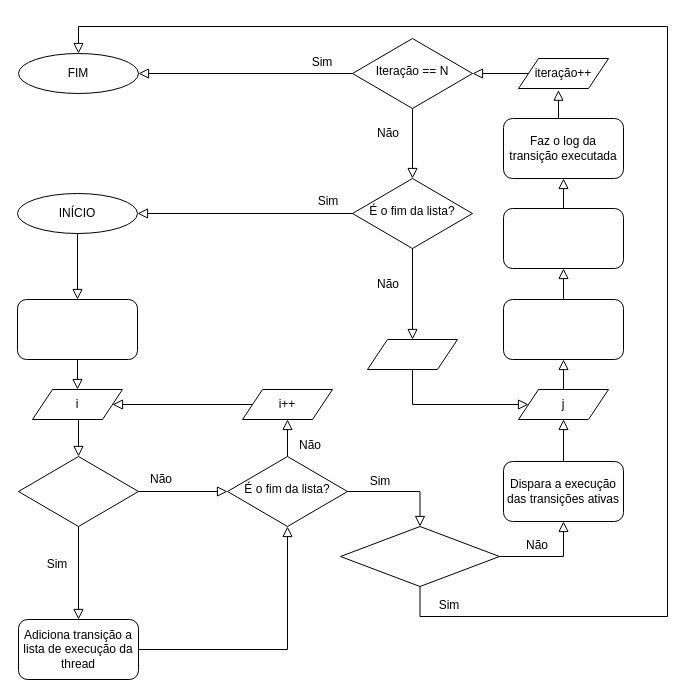
Image size: 695x697. Some labels were removed from this diagram. The shapes that lost their labels are listed below. From the top down, each one's box as (x1, y1, x2, y2) in pixels, then its label:
(502, 208, 624, 268): Coloca tokens nos places pos
(16, 298, 138, 360): Percorre a lista de transições
(502, 298, 624, 360): Retira tokens dos places pre
(366, 338, 458, 370): j++
(18, 456, 138, 526): É uma transição ativa?
(340, 526, 500, 586): A lista de transições está vazia?
